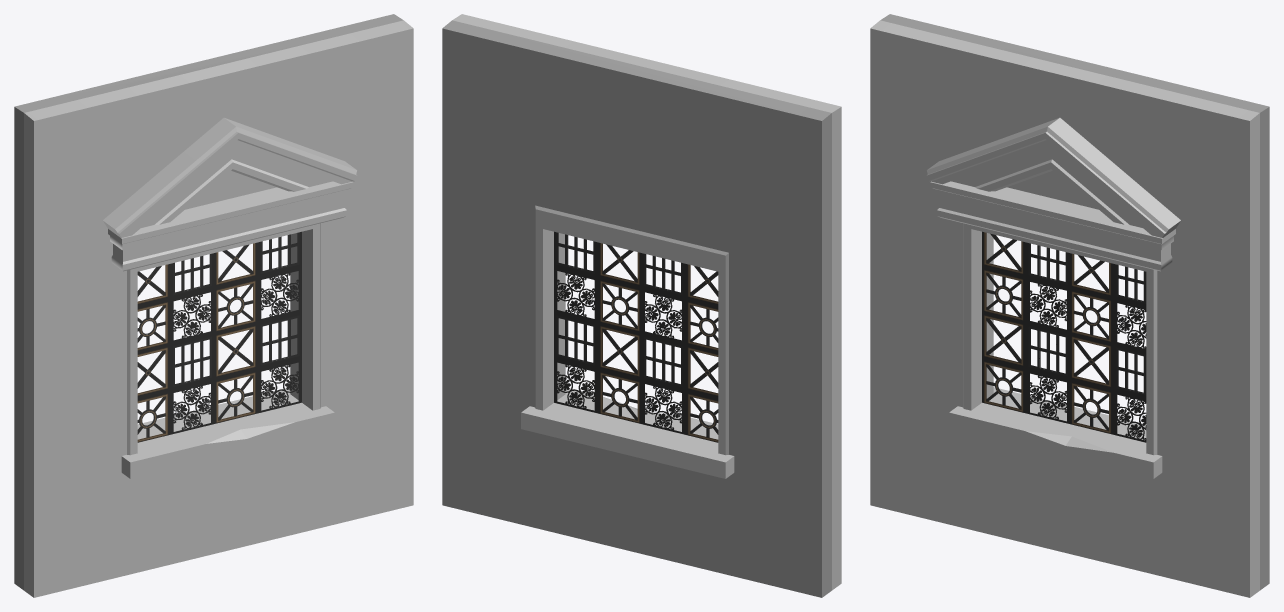
The model's file is SM_Bld_Wall_Window_05.fbx.
The picture shows the model from 3 angles, left to right: view 1: azimuth 30°, elevation 25°; view 2: azimuth 150°, elevation 25°; view 3: azimuth 330°, elevation 25°; orthographic projection.
Parts seen in each view (by area): view 1: SM_Bld_Wall_Window_05; view 2: SM_Bld_Wall_Window_05; view 3: SM_Bld_Wall_Window_05.
Boxes of the visible parts, x1=… form: SM_Bld_Wall_Window_05: x1=14, y1=14, x2=413, y2=597; SM_Bld_Wall_Window_05: x1=442, y1=14, x2=841, y2=597; SM_Bld_Wall_Window_05: x1=870, y1=14, x2=1269, y2=597.
Bounding box in the file's own units: 250 × 301 × 49.16.
